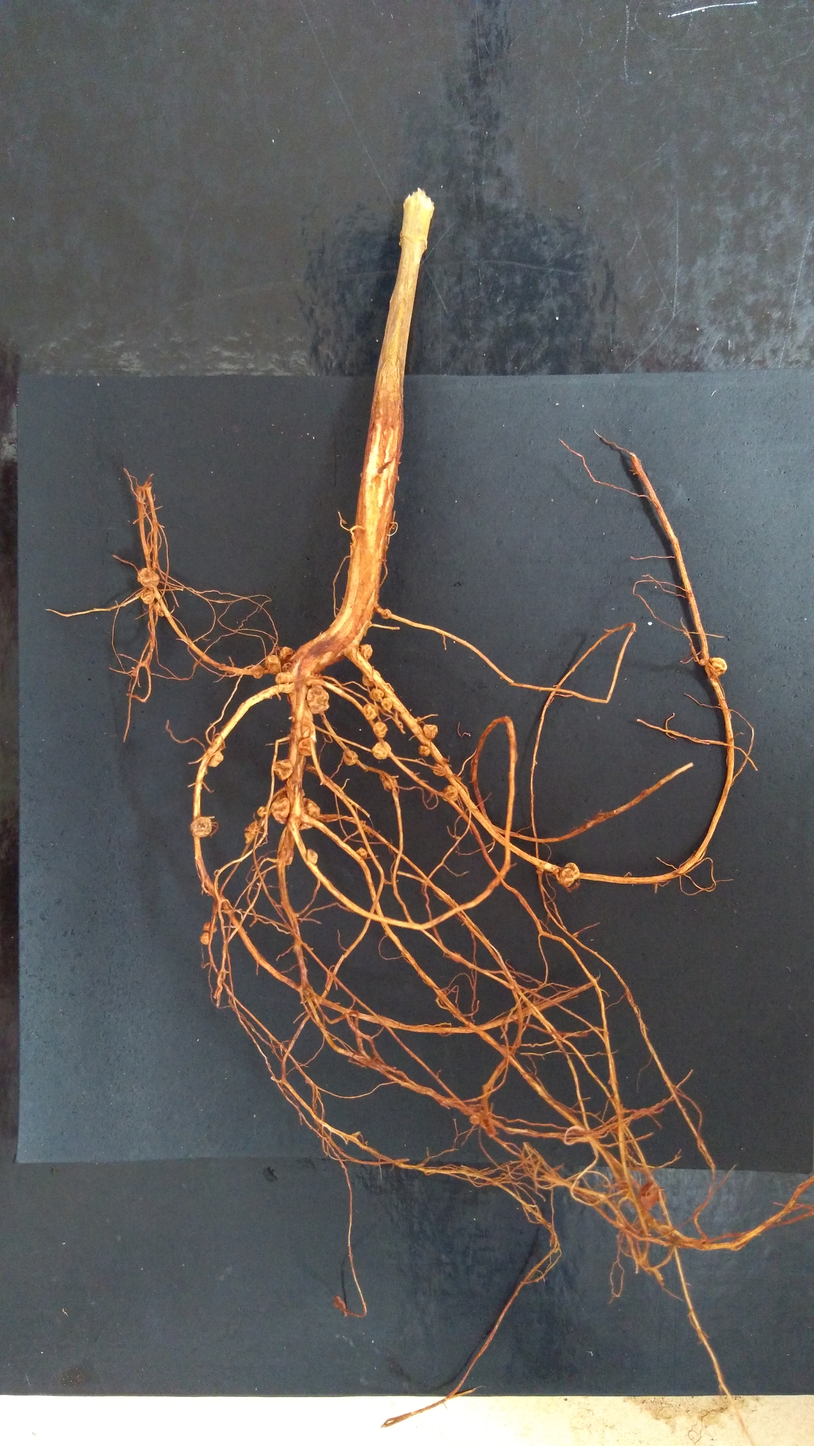nodule: (295, 797, 321, 831), (306, 685, 330, 715), (639, 1179, 659, 1212), (271, 789, 289, 824), (558, 862, 579, 888), (190, 816, 213, 839), (275, 670, 296, 694), (273, 758, 294, 782), (136, 567, 160, 587), (297, 736, 316, 757), (372, 740, 391, 760), (205, 748, 224, 768), (708, 657, 727, 676), (244, 820, 258, 845), (361, 669, 381, 686), (362, 702, 379, 721), (265, 654, 280, 675), (442, 784, 458, 802), (423, 723, 439, 740), (343, 749, 359, 766), (359, 643, 373, 661), (382, 775, 398, 790), (140, 588, 155, 604), (250, 663, 264, 680), (373, 722, 387, 739), (306, 848, 319, 866), (369, 687, 384, 702), (152, 601, 166, 617), (279, 647, 293, 662), (433, 762, 446, 777), (380, 698, 393, 712), (199, 931, 212, 945), (281, 661, 296, 673), (467, 1102, 483, 1113), (418, 744, 431, 757), (469, 1112, 482, 1125), (257, 805, 271, 817), (203, 922, 217, 934), (356, 846, 369, 858), (380, 608, 391, 620), (285, 851, 293, 866), (699, 658, 706, 666), (416, 716, 422, 722)
